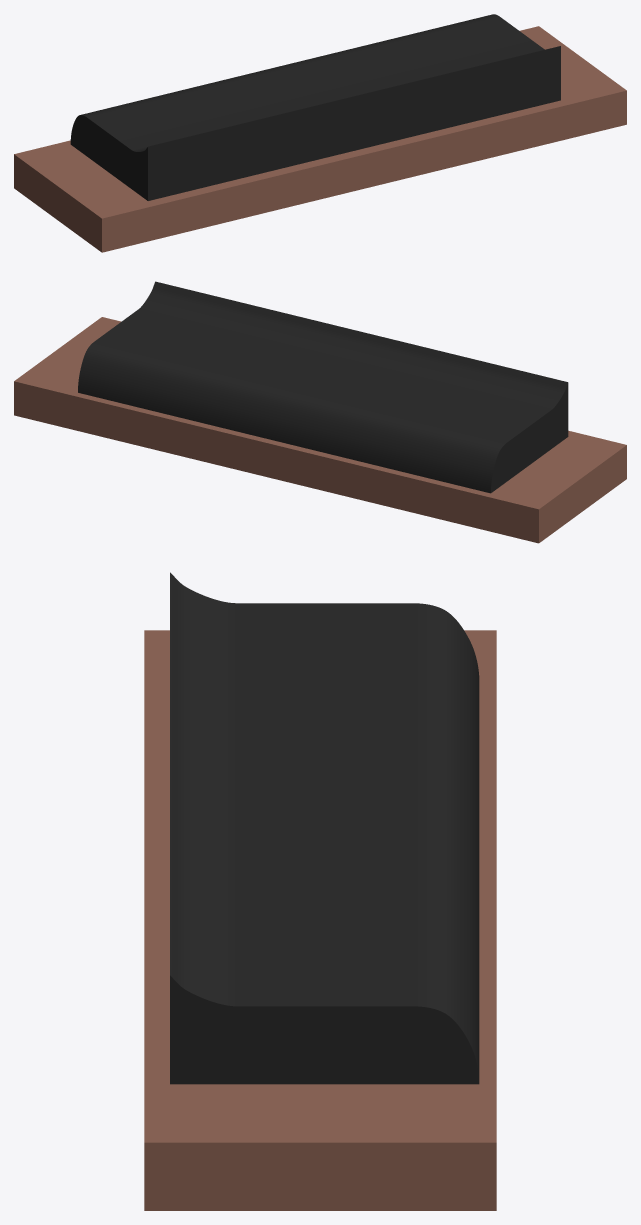
The picture shows the model from 3 angles, top to bottom: view 1: azimuth 30°, elevation 25°; view 2: azimuth 150°, elevation 25°; view 3: azimuth 270°, elevation 25°; orthographic projection. The views are drawn at different scales.
Visible parts, largest first — view 1: plinth; view 2: plinth; view 3: plinth.
Boxes of the visible parts, box(x1,y1,x2,y2) form: plinth: box(14, 14, 626, 252); plinth: box(14, 281, 626, 543); plinth: box(144, 572, 496, 1210).
Bounding box in the file's own units: 0.1449 × 0.0234 × 0.0421.
